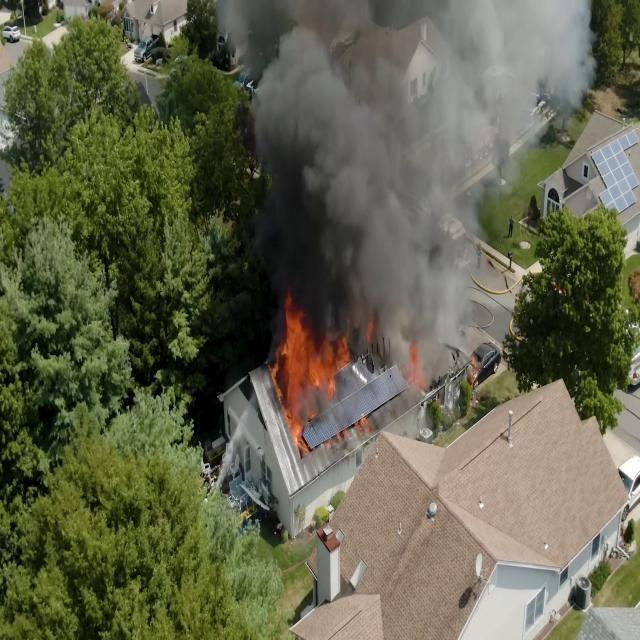Fire: (262, 312, 364, 441)
Smoke: (271, 14, 424, 307), (390, 34, 445, 308)
